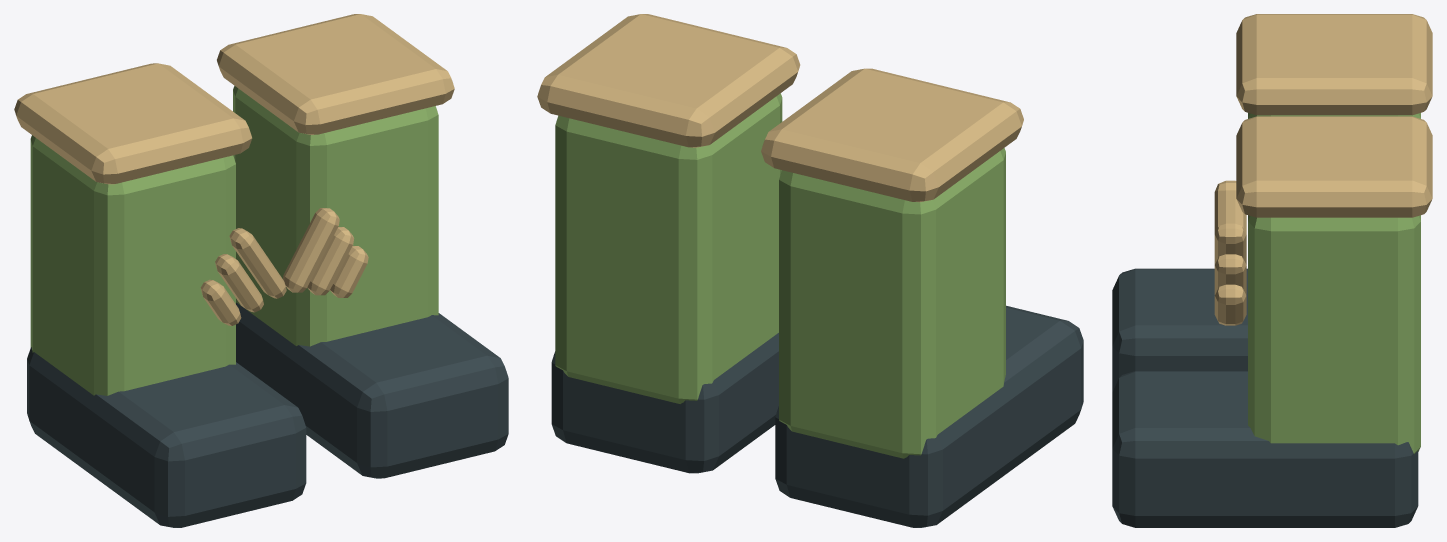
File: arm_lance_boots.glb
3 renders of one model, left to right at view 1: azimuth 30°, elevation 25°; view 2: azimuth 150°, elevation 25°; view 3: azimuth 270°, elevation 25°, orthographic. The views are drawn at different scales.
Visible parts, largest first — view 1: arm_lance_boots; view 2: arm_lance_boots; view 3: arm_lance_boots.
Boxes of the visible parts, bbox=[...] form: arm_lance_boots: bbox=[14, 14, 508, 527]; arm_lance_boots: bbox=[537, 14, 1083, 527]; arm_lance_boots: bbox=[1112, 14, 1432, 527].
Bounding box in the file's own units: 0.75 × 0.67 × 0.555.
